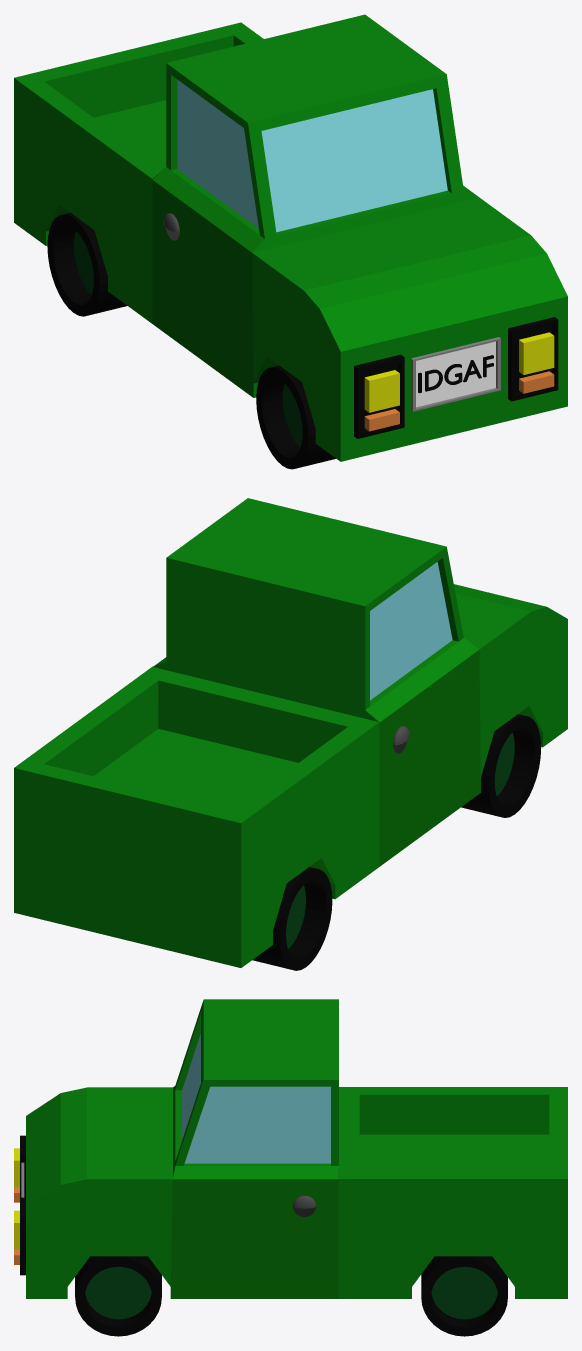
Rendered from TRUCK.fbx.
3 renders of one model, top to bottom at view 1: azimuth 30°, elevation 25°; view 2: azimuth 150°, elevation 25°; view 3: azimuth 270°, elevation 25°, orthographic. The views are drawn at different scales.
Parts seen in each view (by area): view 1: Circle, Circle.002, Circle.001, Plane, Cube, Cube.001, Cube.002, Text; view 2: Circle, Circle.001, Circle.002; view 3: Circle, Circle.001, Circle.002, Cube, Cube.001.
Boxes of the visible parts, x1=… form: Circle: x1=14, y1=14, x2=567, y2=461; Circle.002: x1=47, y1=212, x2=127, y2=316; Circle.001: x1=256, y1=365, x2=335, y2=469; Plane: x1=411, y1=337, x2=500, y2=411; Cube: x1=354, y1=317, x2=558, y2=438; Cube.001: x1=364, y1=332, x2=554, y2=412; Cube.002: x1=364, y1=371, x2=554, y2=431; Text: x1=418, y1=355, x2=493, y2=393; Circle: x1=14, y1=498, x2=567, y2=967; Circle.001: x1=461, y1=714, x2=541, y2=817; Circle.002: x1=252, y1=867, x2=332, y2=970; Circle: x1=26, y1=999, x2=567, y2=1298; Circle.001: x1=75, y1=1256, x2=161, y2=1336; Circle.002: x1=421, y1=1256, x2=507, y2=1336; Cube: x1=20, y1=1135, x2=25, y2=1275; Cube.001: x1=14, y1=1148, x2=19, y2=1249.
Size of the model in its own units: 967 by 1160 by 2331.
